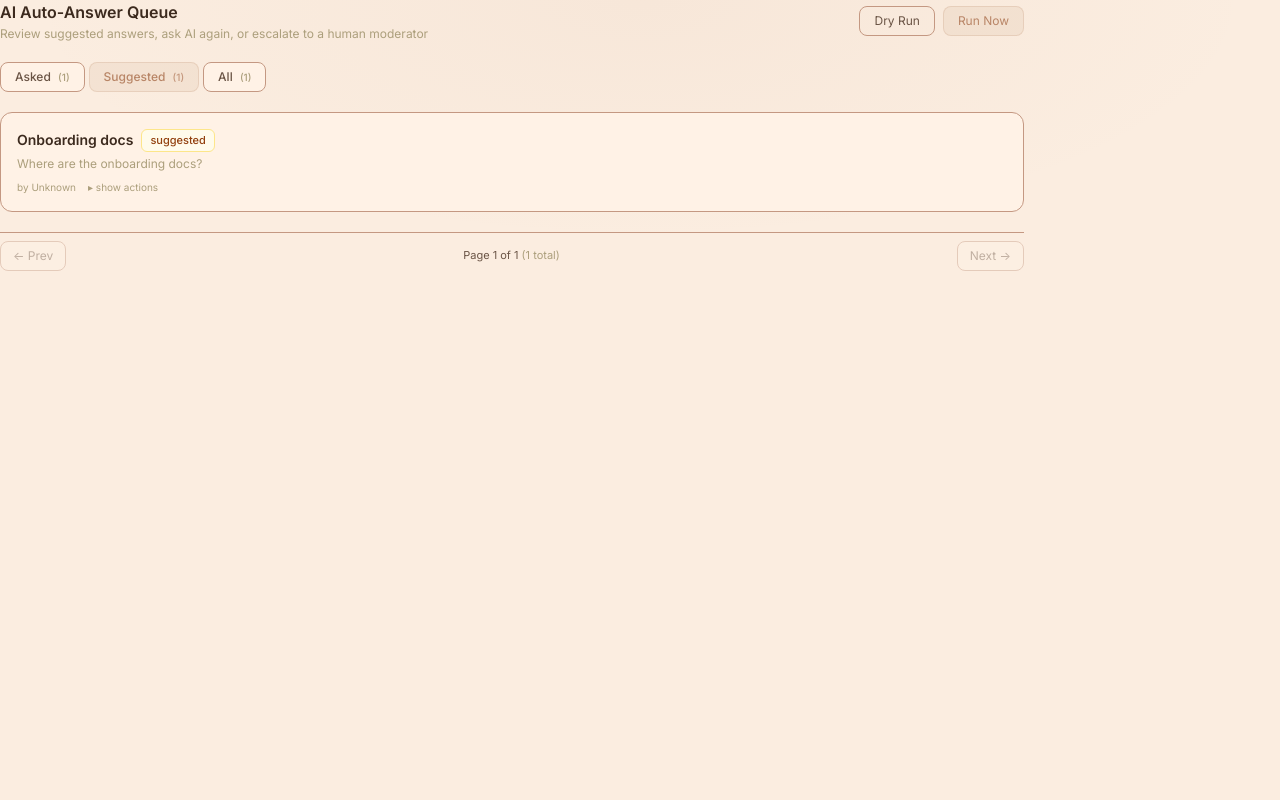
Test: AdminAutoAnswerQueue › modal renders the snapshot data after the context fetch resolves
This screenshot has width=1280, height=800.
Click the heading "Onboarding docs": (75, 140) [17,130,133,150]
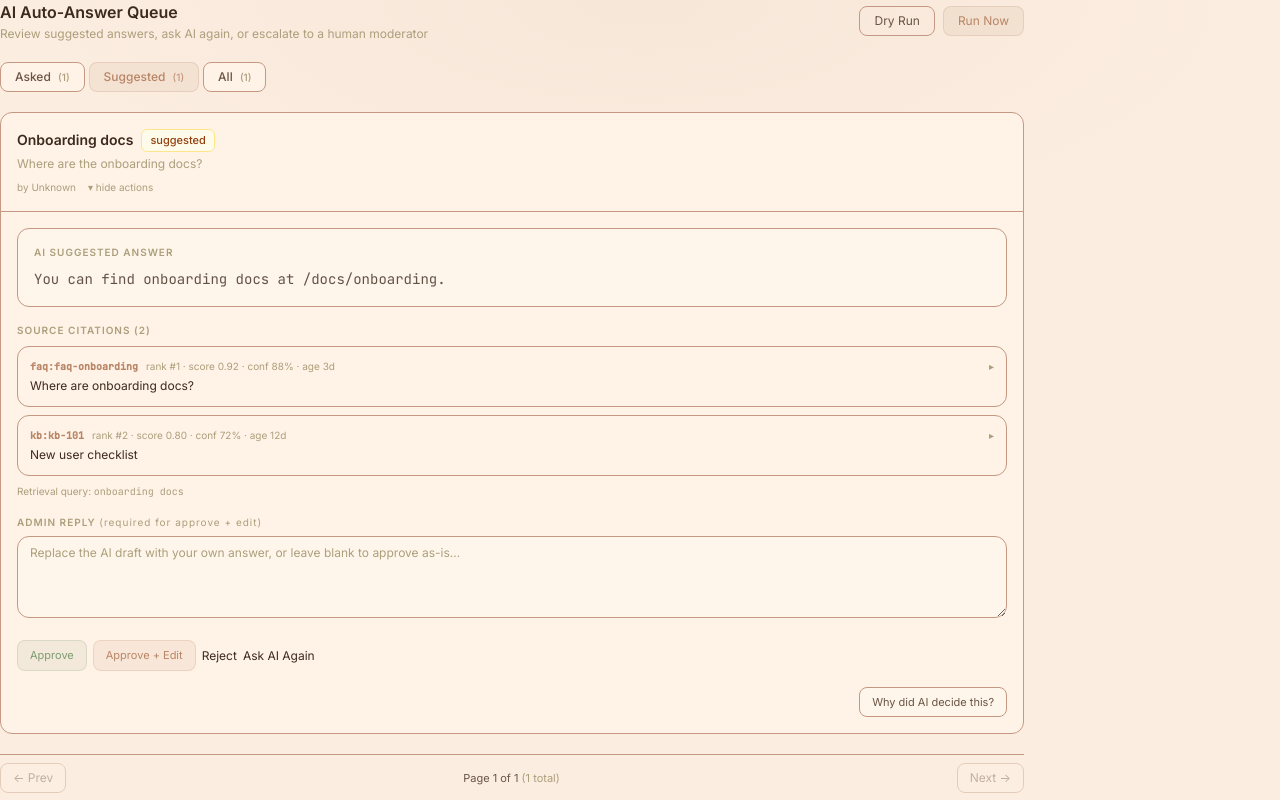
Click the button "Why did AI decide this?": (933, 702) [859,687,1007,717]
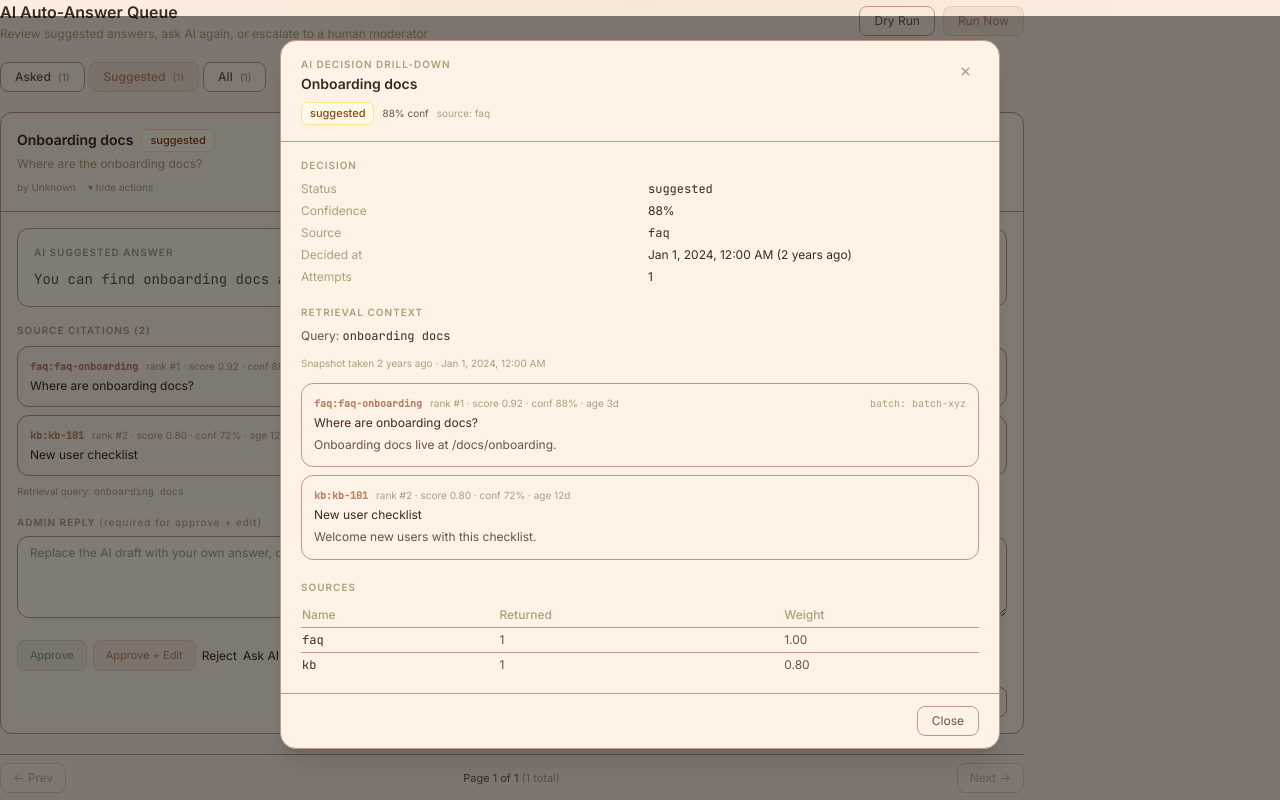
Check: the dialog "AI decision drill-down" is shown
Check: the text "88%" is shown, box [648,202,675,218]
Check: the text "Query: onboarding docs" is shown, box [301,328,451,344]
